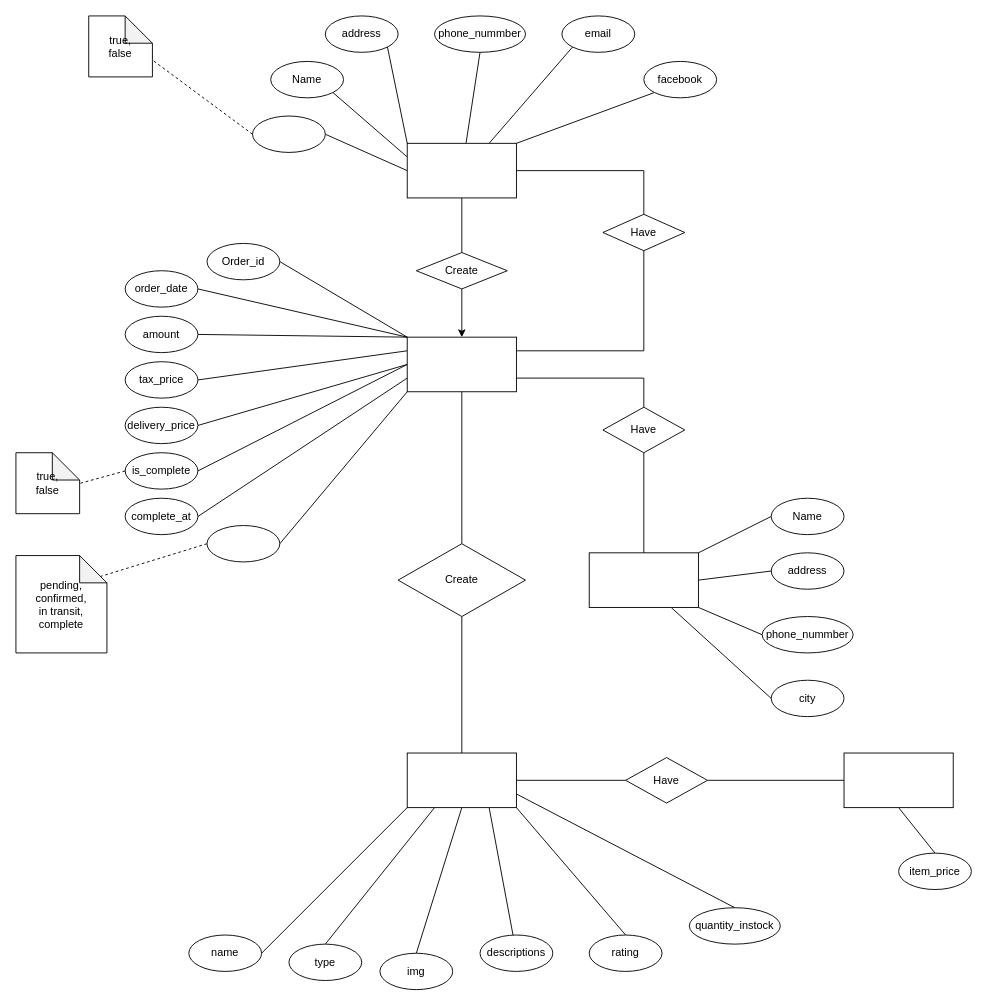
Image size: 987x1006. Some labels were removed from this diagram. Here are the shapes that lost their labels. From the top down, the centre of each, then its label:
the point at 288,133: Is_admin
the point at 461,170: Users
the point at 461,364: Orders
the point at 243,543: status
the point at 643,579: Delivery_address
the point at 461,780: Products
the point at 898,780: Wattage
